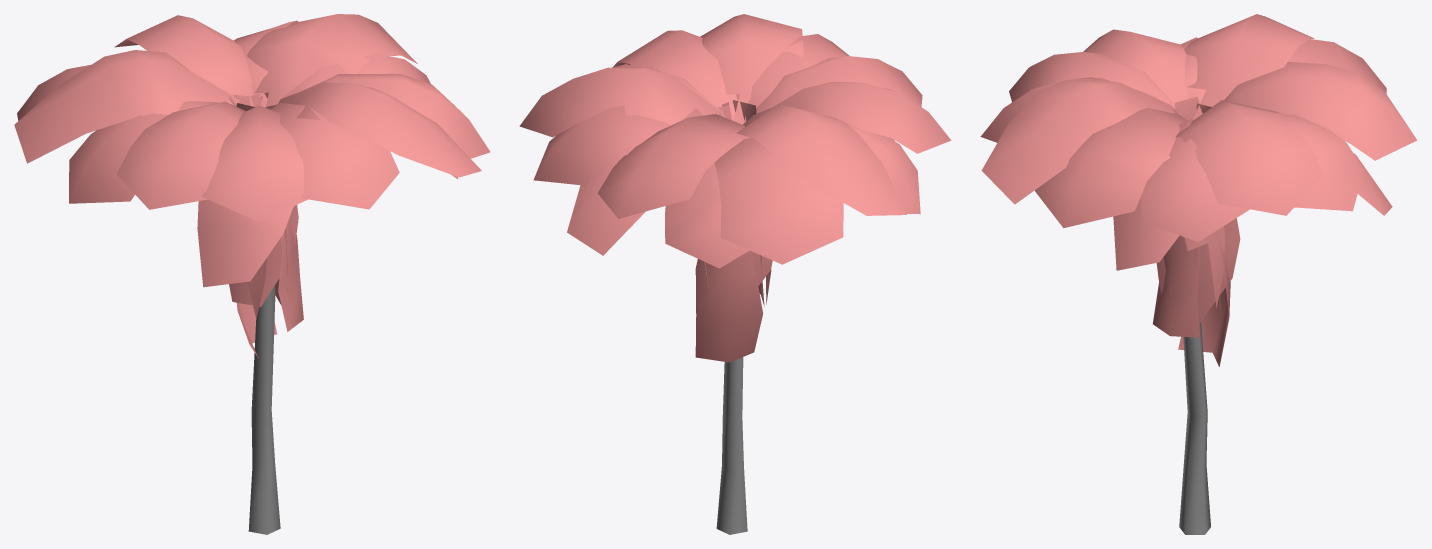
The model's file is Primitive_InDecotree001.gltf.
3 renders of one model, left to right at view 1: azimuth 30°, elevation 25°; view 2: azimuth 150°, elevation 25°; view 3: azimuth 270°, elevation 25°, orthographic. The views are drawn at different scales.
Visible parts, largest first — view 1: Primitive_InDecotree001; view 2: Primitive_InDecotree001; view 3: Primitive_InDecotree001.
Part boxes in pixels (x1=…): Primitive_InDecotree001: x1=14, y1=14, x2=490, y2=534; Primitive_InDecotree001: x1=519, y1=14, x2=951, y2=534; Primitive_InDecotree001: x1=980, y1=14, x2=1417, y2=534.
Bounding box in the file's own units: 6.93 × 8.1 × 6.95.
